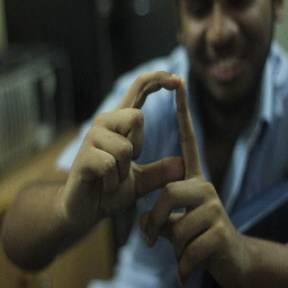D: (94, 68, 218, 217)
